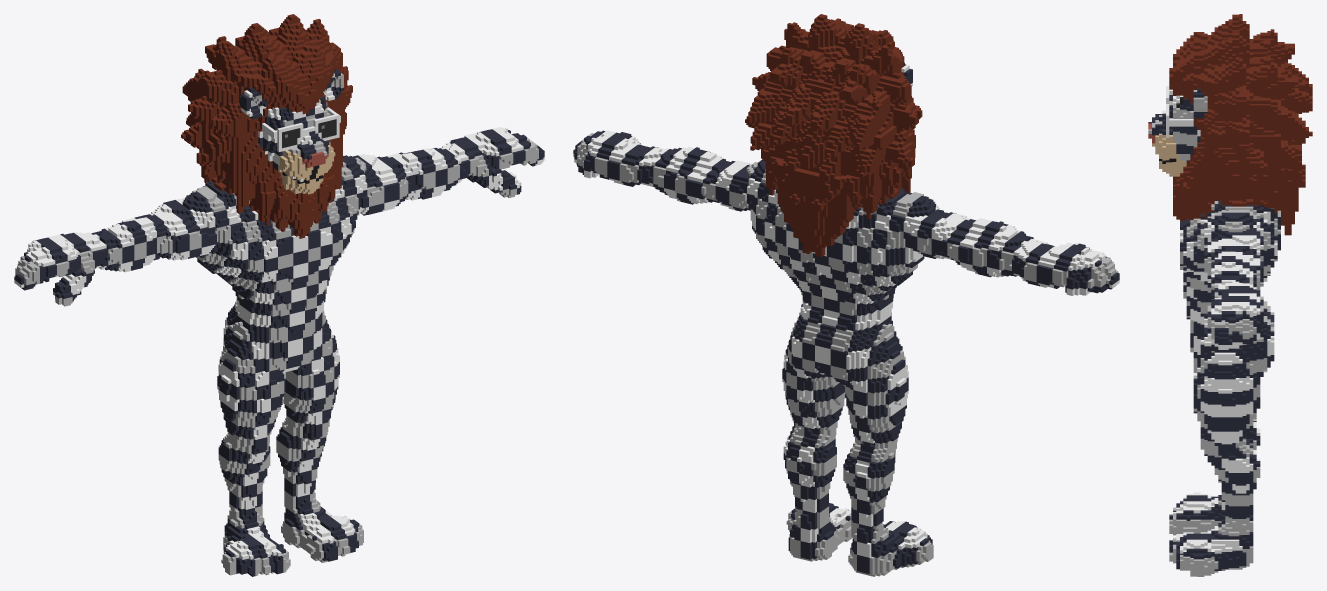
3 renders of one model, left to right at view 1: azimuth 30°, elevation 25°; view 2: azimuth 150°, elevation 25°; view 3: azimuth 270°, elevation 25°, orthographic. The views are drawn at different scales.
Visible parts, largest first — view 1: smirk; view 2: smirk; view 3: smirk.
Part boxes in pixels (<box>): smirk: <box>14,14,544,576</box>; smirk: <box>573,14,1119,576</box>; smirk: <box>1148,14,1312,576</box>.
Bounding box in the file's own units: 17.2 × 16.5 × 4.7.
Materials: 4 (4 with a texture image).
